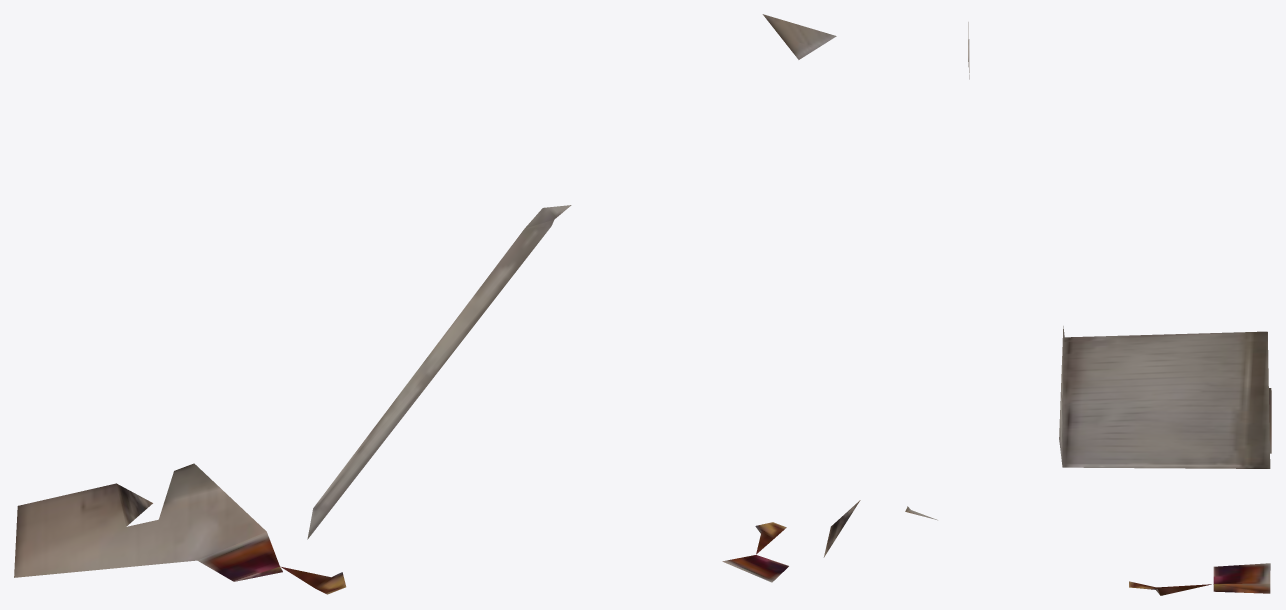
The model's file is lectern.glb.
3 views of the same model, side by side, from view 1: azimuth 30°, elevation 25°; view 2: azimuth 150°, elevation 25°; view 3: azimuth 270°, elevation 25° (orthographic). The views are drawn at different scales.
Visible parts, largest first — view 1: Node; view 2: Node; view 3: Node.
Boxes of the visible parts, x1,y1,x2,y2 form: Node: (14, 205, 571, 594); Node: (722, 14, 937, 582); Node: (968, 22, 1271, 595).
Bounding box in the file's own units: 2.92 × 3.89 × 1.81.
Materials: 5 (5 with a texture image).
